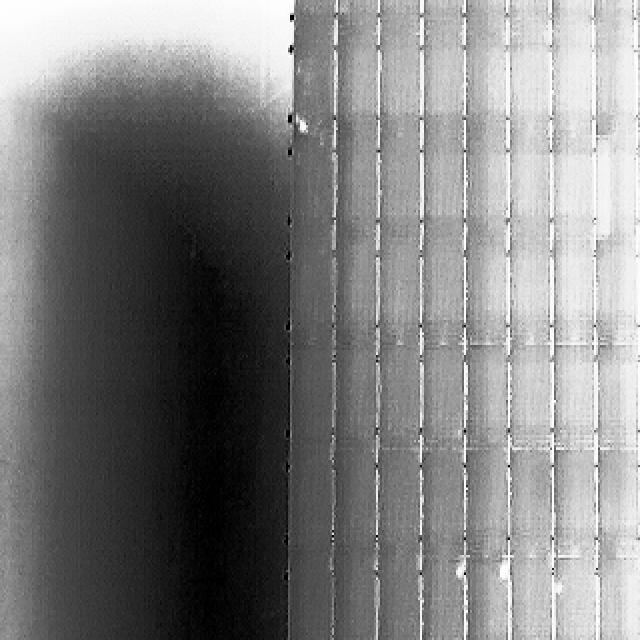Hotspots: (445, 562, 463, 582), (295, 115, 309, 138), (495, 562, 509, 584), (554, 580, 566, 600), (564, 544, 578, 557)
PV-modules: (552, 442, 600, 555), (509, 18, 554, 138), (419, 18, 464, 138), (594, 18, 638, 138), (379, 20, 424, 137), (331, 448, 377, 562), (550, 18, 593, 139), (465, 18, 508, 138), (418, 448, 464, 560), (334, 21, 378, 138), (592, 242, 640, 348), (510, 448, 556, 558), (294, 23, 338, 138), (378, 137, 424, 245), (378, 448, 422, 560), (596, 445, 640, 557), (286, 447, 331, 556), (418, 240, 464, 346), (419, 137, 464, 245), (374, 346, 420, 451), (288, 242, 334, 347), (509, 136, 554, 243), (465, 447, 508, 558), (464, 135, 509, 241), (510, 344, 556, 447), (289, 134, 334, 238), (552, 239, 596, 345), (510, 240, 554, 346), (378, 241, 422, 347), (465, 241, 509, 347), (333, 240, 376, 348), (552, 346, 597, 449), (420, 346, 464, 451), (332, 347, 377, 449), (594, 348, 638, 452), (551, 140, 596, 241), (333, 139, 378, 240), (288, 347, 332, 450), (465, 348, 509, 450), (597, 140, 639, 242), (594, 552, 640, 640), (508, 560, 554, 640), (332, 560, 378, 640), (418, 560, 462, 640), (552, 560, 596, 640), (464, 560, 508, 640), (286, 557, 328, 640), (376, 562, 420, 640), (294, 0, 340, 28), (337, 0, 382, 26), (466, 0, 511, 26), (418, 0, 463, 24), (506, 0, 552, 22), (380, 0, 422, 24), (632, 28, 640, 140), (634, 240, 640, 345), (634, 342, 640, 442), (634, 142, 640, 240), (632, 0, 640, 35)
